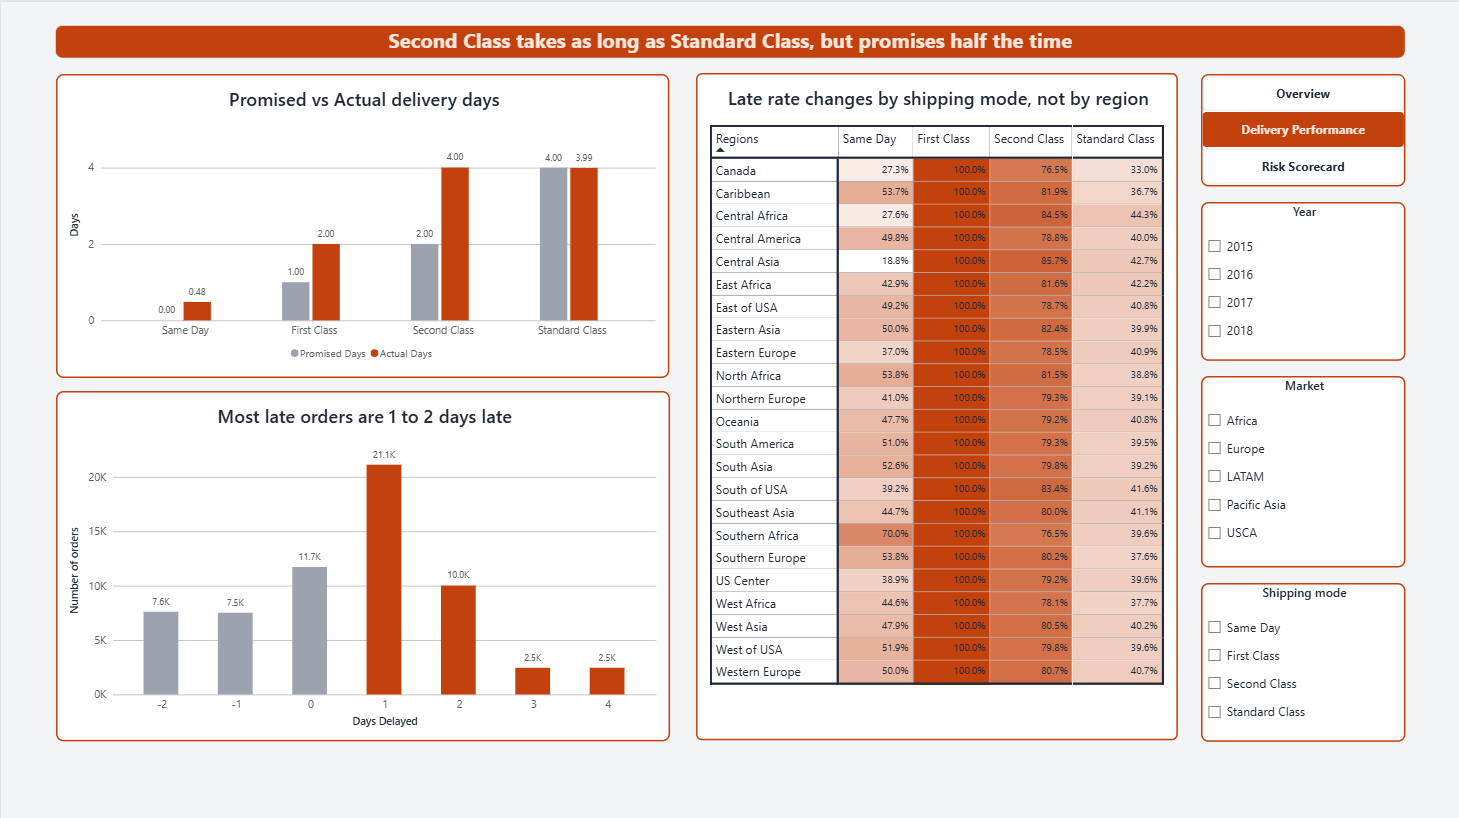

Layout of this report page (visuals, bound fields, positions):
{"tool":"powerbi","page":{"name":"Delivery Performance","canvas":[1920,1080],"ordinal":1},"visuals":[{"type":"textbox","box":[71.4,29.9,1777.1,43.5],"z":0},{"type":"clusteredColumnChart","title":"Promised vs Actual delivery days","fields":{"Category":["dim_shipping_mode.shipping_mode"],"Y":["_Measures.Avg Promised Days","_Measures.Avg Actual Days"]},"box":[72.1,94.3,807.4,399.5],"z":1000},{"type":"pivotTable","title":"Late rate changes by shipping mode, not by region","fields":{"Columns":["dim_shipping_mode.shipping_mode"],"Rows":["dim_region.order_region"],"Values":["_Measures.Late Rate %"]},"box":[914.4,93.9,634,878.2],"z":2000},{"type":"clusteredColumnChart","title":"Most late orders are 1 to 2 days late","fields":{"Category":["fact_orders.delay_days"],"Y":["_Measures.Orders"]},"box":[72.1,511.6,808.3,461.3],"z":3000},{"type":"slicer","title":"Year","fields":{"Values":["dim_date.Year"]},"box":[1578.7,263.2,268.8,208.5],"z":4000},{"type":"slicer","title":"Market","fields":{"Values":["dim_region.market"]},"box":[1578.7,492.2,268.8,251.8],"z":5000},{"type":"slicer","title":"Shipping mode","fields":{"Values":["dim_shipping_mode.shipping_mode"]},"box":[1578.7,764.4,268.8,208.5],"z":6000},{"type":"pageNavigator","box":[1578.7,94.3,269.1,148.4],"z":7000}]}

Visuals, with their boxes in screenshot pixels (x1, y1, x2, y2), scaled from the page's 1920x1080 canvas onto the 1459x818 screenshot:
textbox: 54 23 1405 56
"Promised vs Actual delivery days" clusteredColumnChart: 55 71 668 374
"Late rate changes by shipping mode, not by region" pivotTable: 695 71 1177 736
"Most late orders are 1 to 2 days late" clusteredColumnChart: 55 387 669 737
"Year" slicer: 1200 199 1404 357
"Market" slicer: 1200 373 1404 564
"Shipping mode" slicer: 1200 579 1404 737
pageNavigator: 1200 71 1404 184
